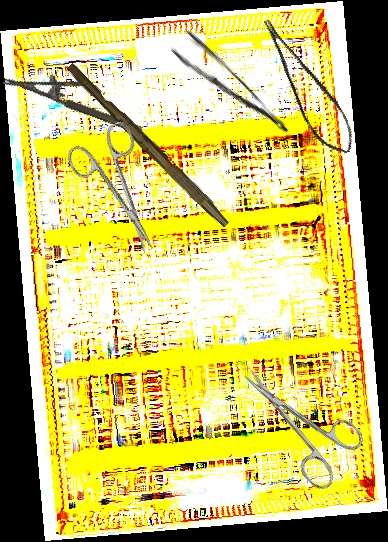Dressing Forceps: (168, 27, 293, 152)
Iris Scissors: (223, 345, 372, 494), (62, 119, 178, 266)
Micro Scissor: (258, 6, 362, 164)
Needle Holder: (3, 56, 150, 136)
Scalpel Handle: (62, 61, 235, 229)
